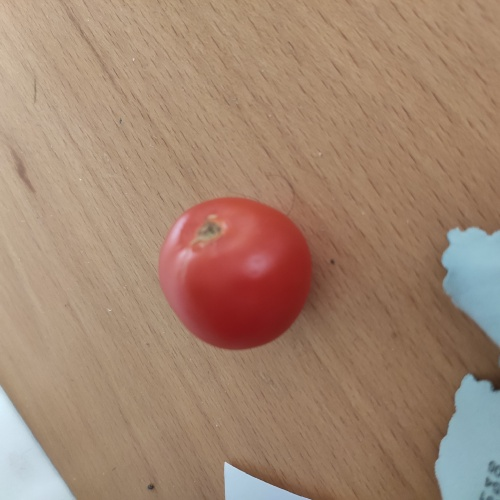pomodoro: (150, 190, 321, 353)
